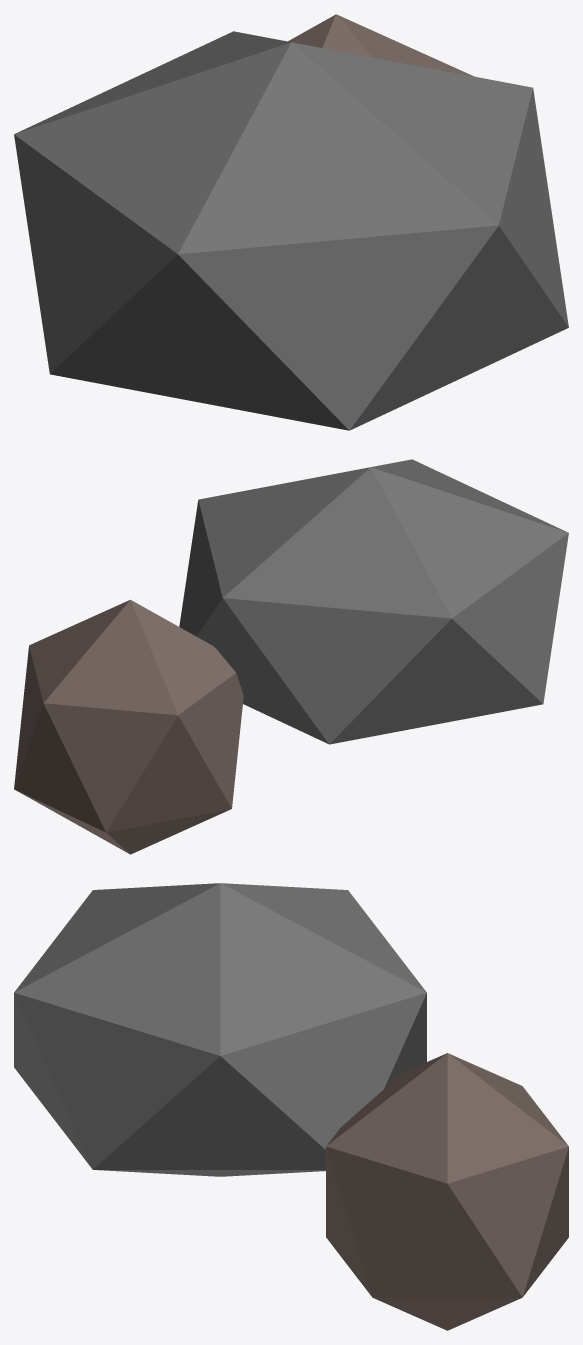
The model's file is rock.fbx.
The picture shows the model from 3 angles, top to bottom: view 1: azimuth 30°, elevation 25°; view 2: azimuth 150°, elevation 25°; view 3: azimuth 270°, elevation 25°; orthographic projection. The views are drawn at different scales.
Visible parts, largest first — view 1: Icosphere.006, Icosphere.007; view 2: Icosphere.006, Icosphere.007; view 3: Icosphere.006, Icosphere.007.
Boxes of the visible parts, left/top/right/bottom form: Icosphere.006: left=14, top=31, right=568, bottom=430; Icosphere.007: left=288, top=14, right=473, bottom=76; Icosphere.006: left=179, top=459, right=568, bottom=744; Icosphere.007: left=14, top=599, right=243, bottom=854; Icosphere.006: left=14, top=883, right=426, bottom=1176; Icosphere.007: left=326, top=1053, right=568, bottom=1330.
Bounding box in the file's own units: 252 × 202 × 271.
